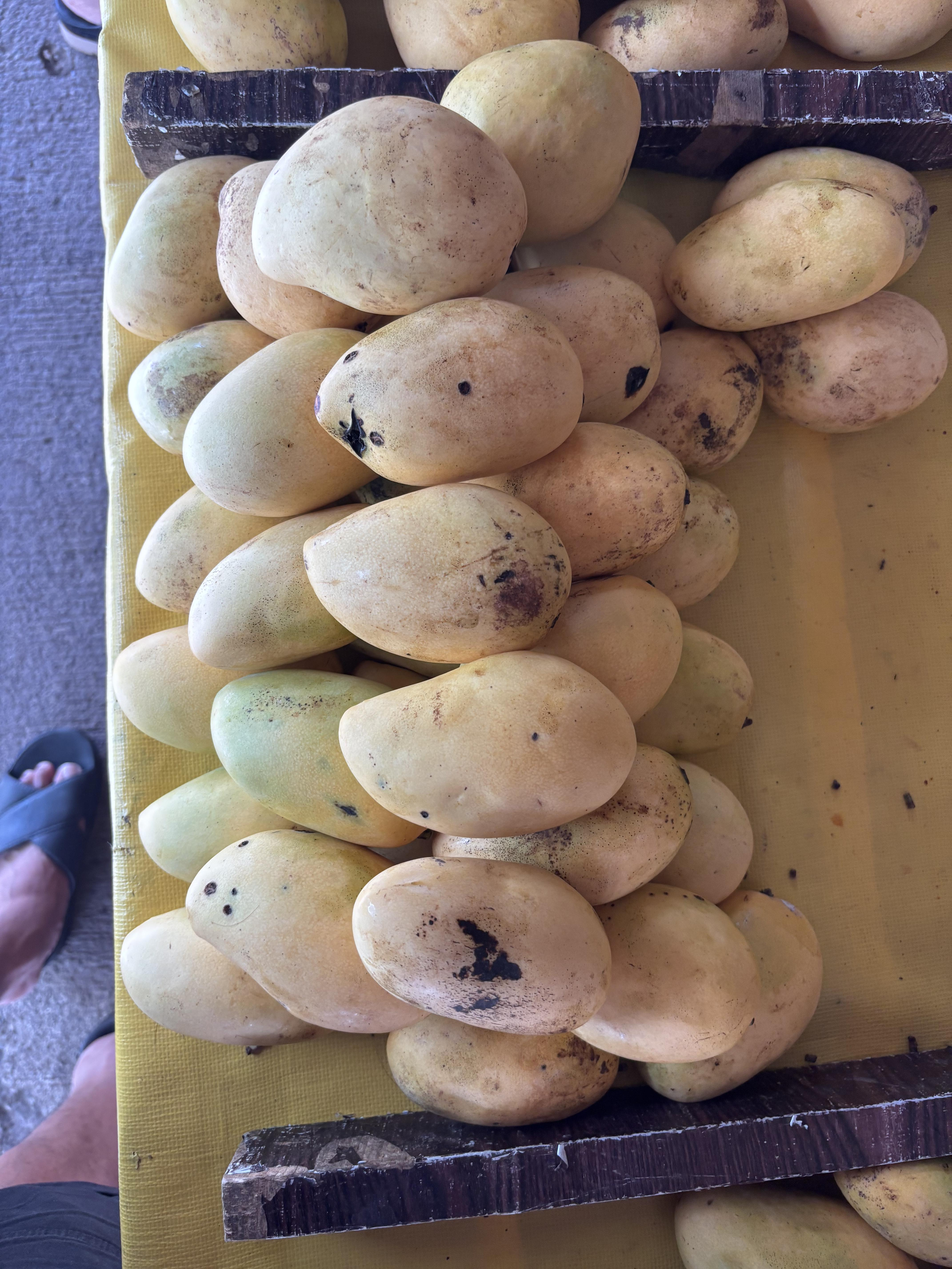mango: (253, 96, 527, 315), (339, 652, 637, 837), (314, 298, 583, 486), (303, 483, 572, 663), (664, 179, 905, 331)
occluded: (186, 830, 430, 1033), (353, 857, 611, 1034), (432, 743, 694, 907), (442, 40, 640, 245), (640, 890, 822, 1102), (211, 668, 421, 848), (183, 329, 374, 518), (468, 422, 687, 581), (576, 883, 760, 1063), (120, 907, 332, 1047), (742, 290, 947, 434), (112, 626, 344, 753), (710, 147, 931, 280), (217, 161, 383, 338), (188, 504, 359, 671), (488, 265, 661, 424), (106, 157, 252, 341), (387, 1015, 619, 1127), (515, 196, 677, 330), (532, 576, 682, 720), (622, 328, 763, 476), (138, 768, 315, 883), (674, 1185, 915, 1269), (128, 320, 273, 454), (135, 486, 287, 613), (635, 623, 753, 755), (622, 478, 740, 610), (582, 0, 788, 70), (383, 0, 580, 70), (657, 761, 754, 903), (166, 0, 348, 72), (836, 1157, 952, 1266), (784, 0, 952, 62), (351, 638, 458, 677), (353, 659, 428, 690)
